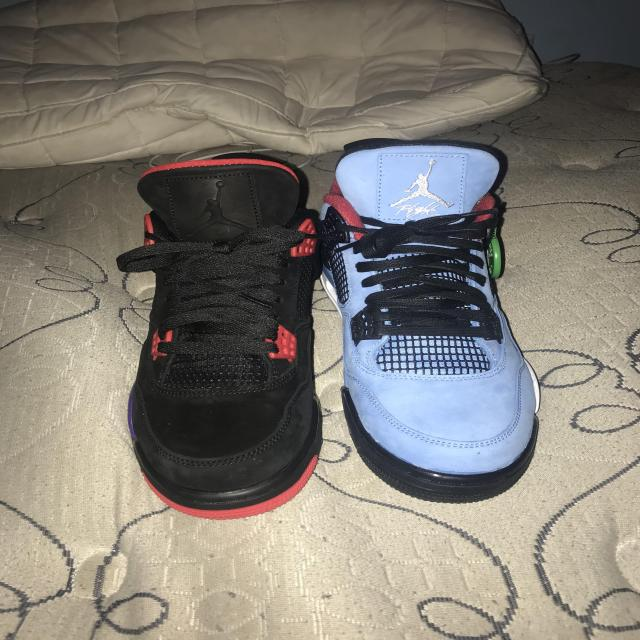shoes: (81, 138, 331, 548), (314, 124, 565, 511)
